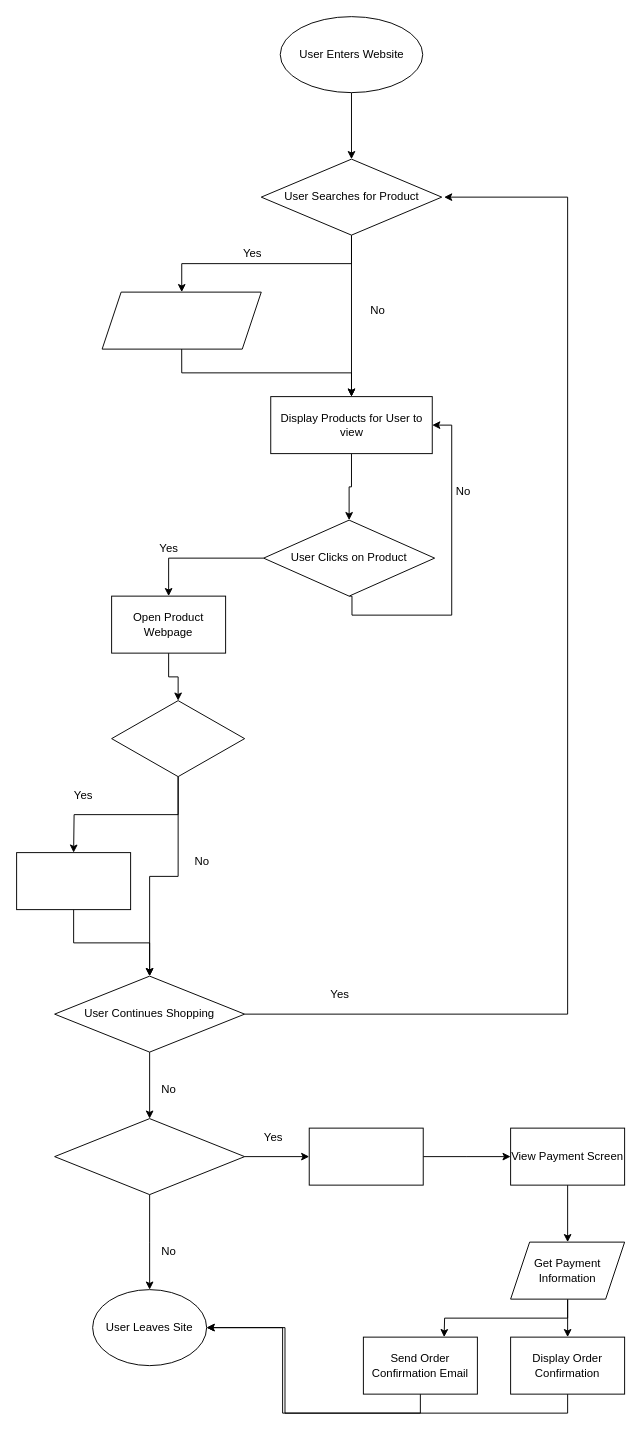
The diagram is 641 pixels wide and 1437 high, and some of its shapes have lost their labels. Here are the shapes that lost their labels. From the top down, the centre of each, then its label:
At (181,320): "Get User's Search Input".
At (178,738): "User Adds Item to Cart".
At (73,881): "Display Cart Add Confirmation".
At (149,1156): "User Checks Out".
At (365,1156): "View Cart Screen".
